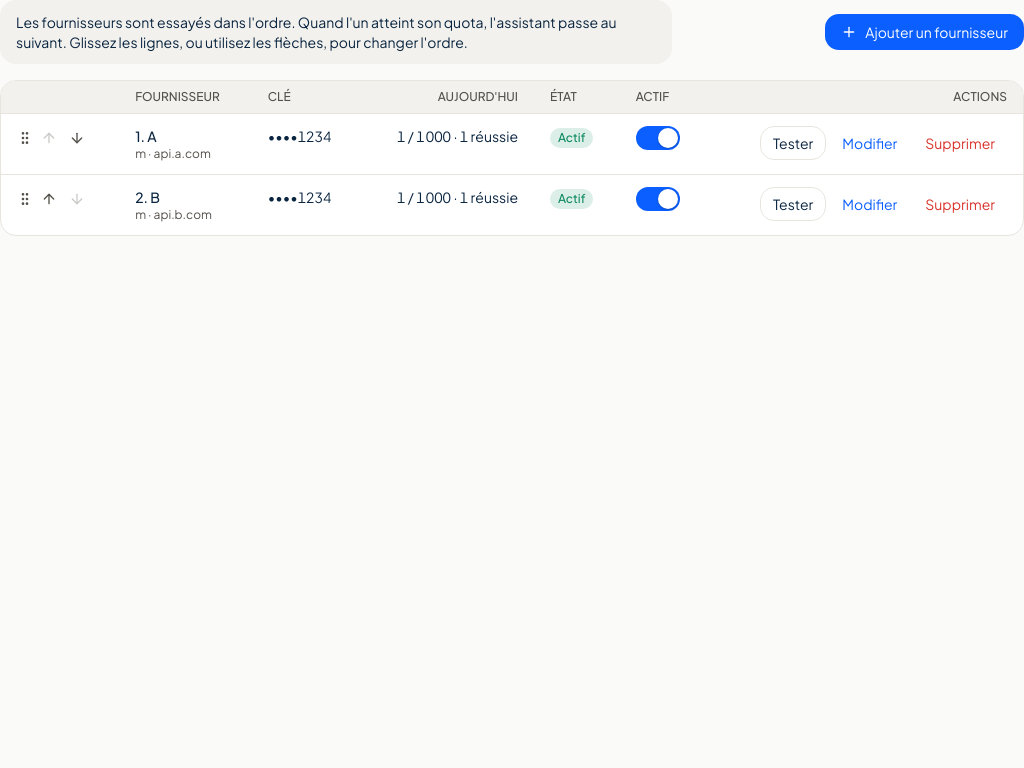
Test: /assistant › suppression : la table ne repasse pas par « Chargement… »
Click the button with test id "provider-delete-a" at (960, 143), box [913,127,1007,159]
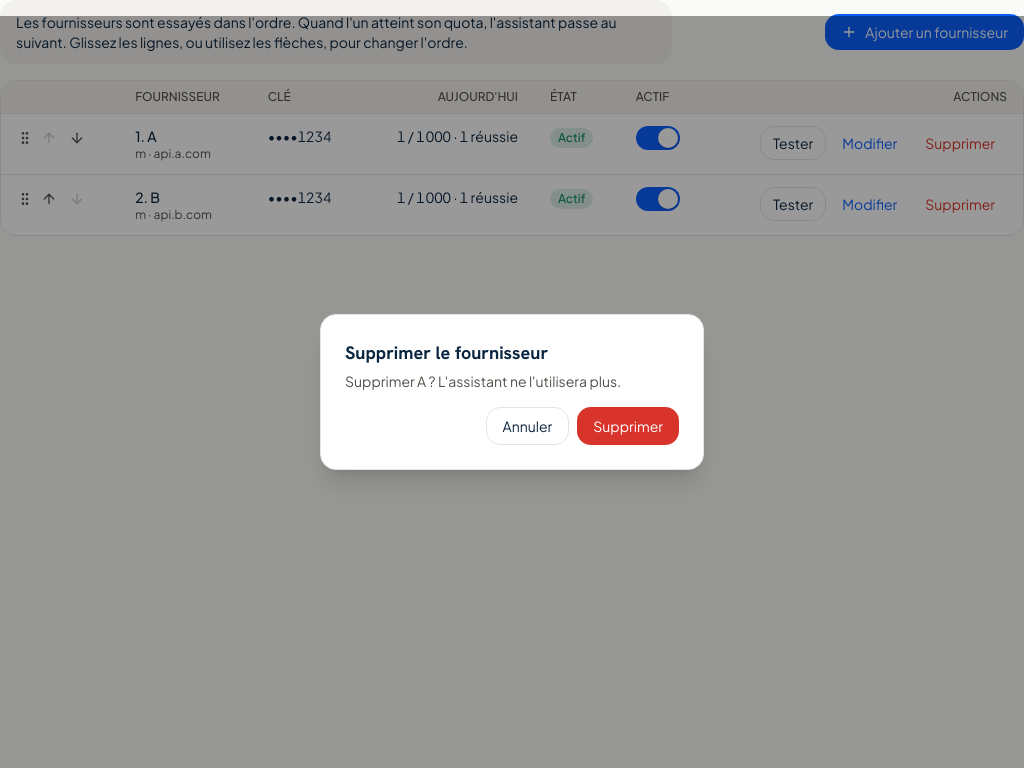
Click the button "Supprimer" at (628, 426), box [577,407,679,445]
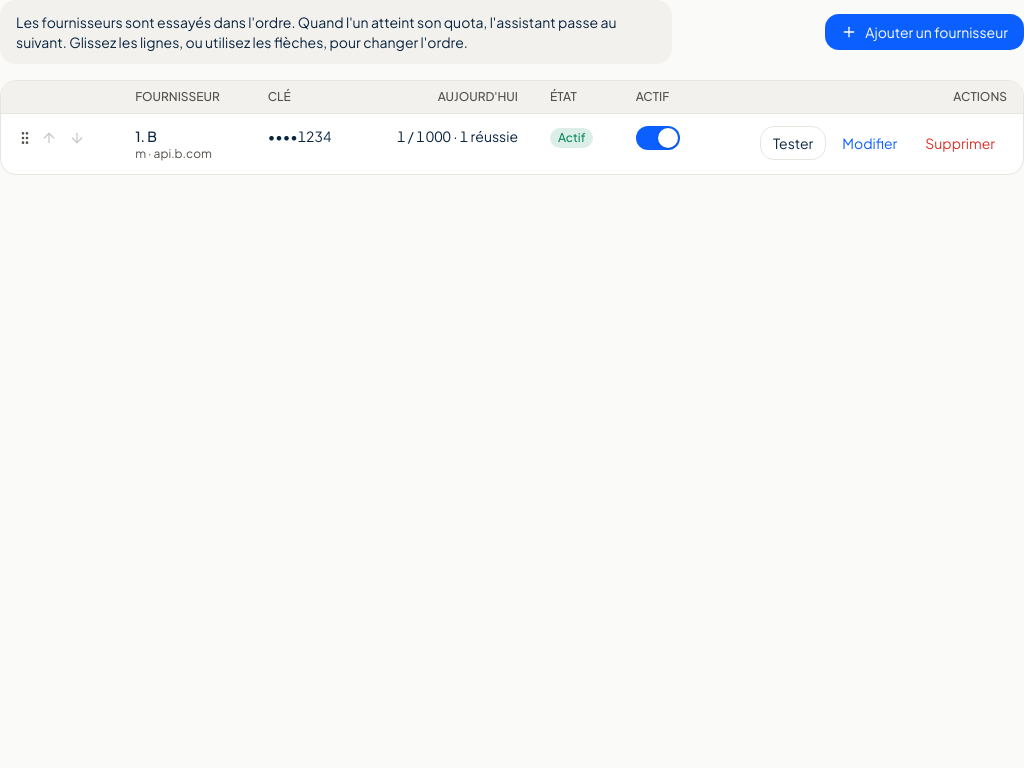
Expected: the row with test id "provider-row-b" is shown, [1,114,1023,174]
Now the text "Supprimer le fournisseur" is gone
